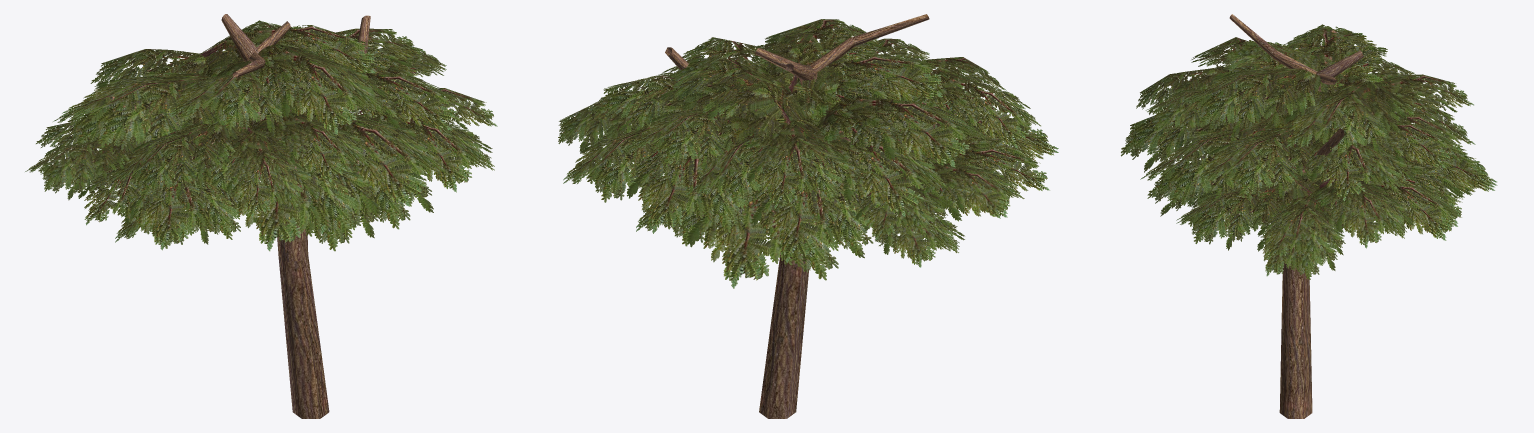
Rendered from flora-trees-acacia.glb.
The picture shows the model from 3 angles, left to right: view 1: azimuth 30°, elevation 25°; view 2: azimuth 150°, elevation 25°; view 3: azimuth 270°, elevation 25°; orthographic projection. The views are drawn at different scales.
Parts seen in each view (by area): view 1: tree_acacia_leaves_02_06, tree_acacia_trunk_02_06; view 2: tree_acacia_leaves_02_06, tree_acacia_trunk_02_06; view 3: tree_acacia_leaves_02_06, tree_acacia_trunk_02_06.
Boxes of the visible parts, x1,y1,x2,y2 form: tree_acacia_leaves_02_06: [25, 20, 497, 251]; tree_acacia_trunk_02_06: [109, 14, 370, 418]; tree_acacia_leaves_02_06: [558, 19, 1058, 288]; tree_acacia_trunk_02_06: [665, 14, 941, 418]; tree_acacia_leaves_02_06: [1121, 24, 1497, 279]; tree_acacia_trunk_02_06: [1229, 14, 1363, 418].
Bounding box in the file's own units: 7.18 × 6.03 × 6.41.
1 material, 1 textured.
